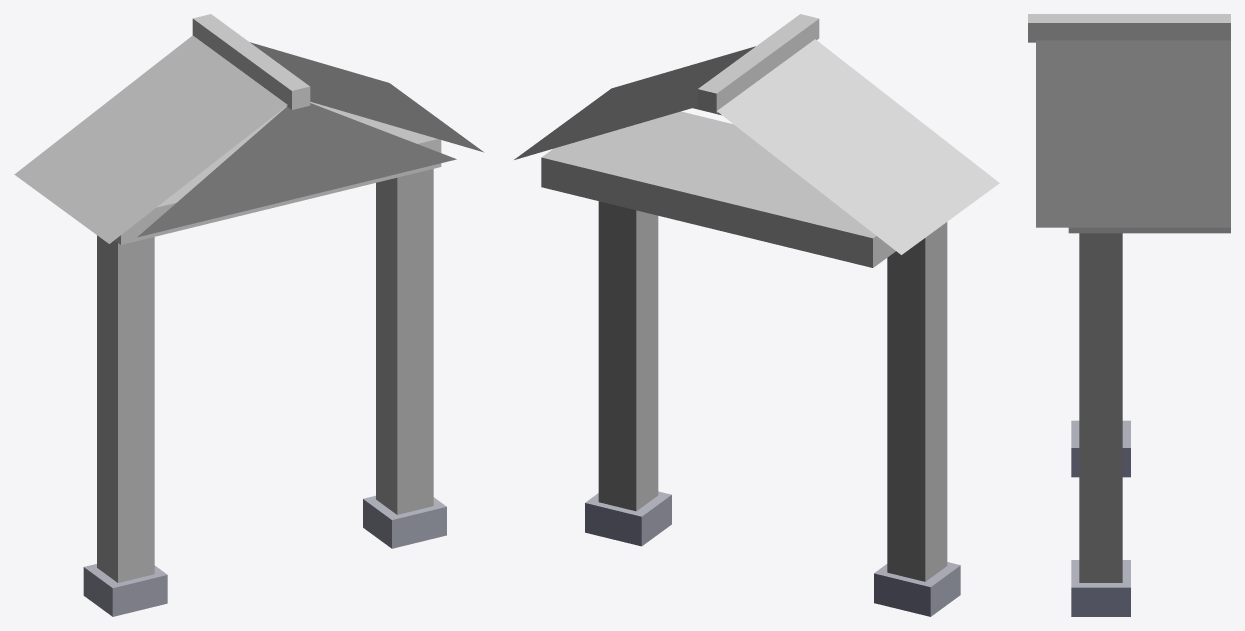
The model's file is bld_porch.glb.
The picture shows the model from 3 angles, left to right: view 1: azimuth 30°, elevation 25°; view 2: azimuth 150°, elevation 25°; view 3: azimuth 270°, elevation 25°; orthographic projection. The views are drawn at different scales.
Parts seen in each view (by area): view 1: bld_porch; view 2: bld_porch; view 3: bld_porch.
Part boxes in pixels (<box>): bld_porch: <box>14,14,483,616</box>; bld_porch: <box>514,14,999,616</box>; bld_porch: <box>1028,14,1230,616</box>.
Size of the model in its own units: 1.02 by 1.31 by 0.4688.
